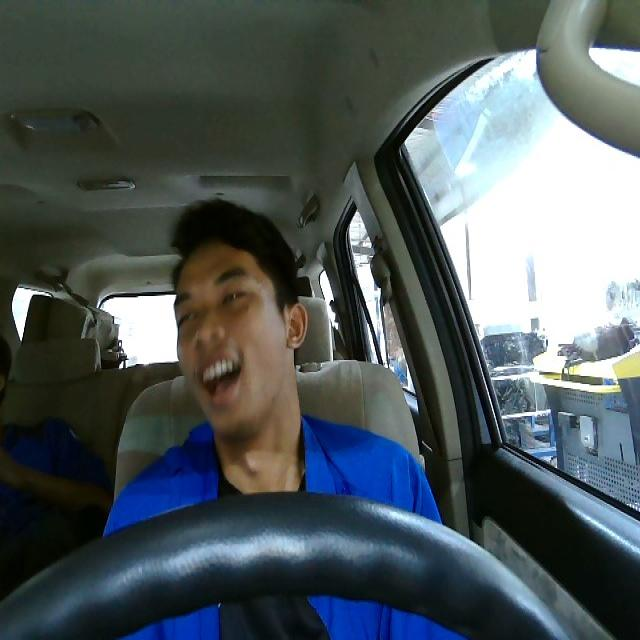yarning: (173, 240, 306, 433)
